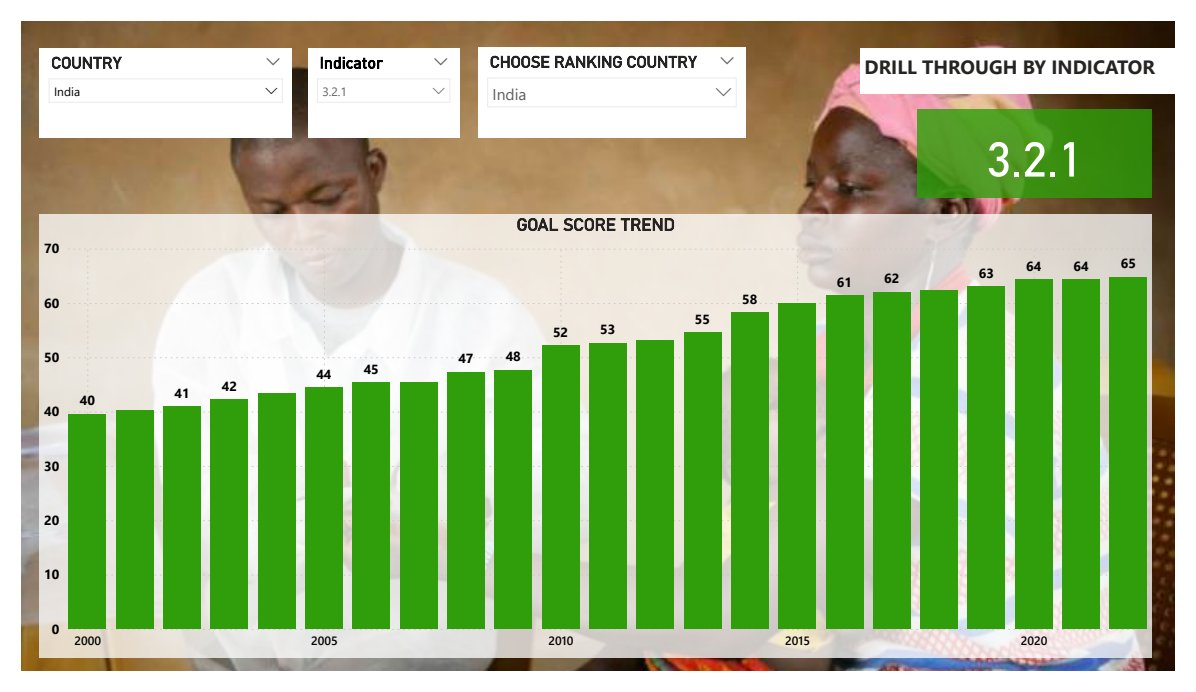

Layout of this report page (visuals, bound fields, positions):
{"tool":"powerbi","page":{"name":"SDG 3","canvas":[1280,720],"ordinal":3},"visuals":[{"type":"slicer","fields":{"Values":["SDG 3.GeoAreaName"]},"box":[19.7,30.3,280.1,98.4],"z":0},{"type":"card","fields":{"Values":["Min(SDG 3.Indicator)"]},"box":[994.8,96.9,260.4,98.4],"z":1000},{"type":"slicer","fields":{"Values":["SDG 3.Indicator"]},"box":[318,30.3,168.1,98.4],"z":2000},{"type":"slicer","fields":{"Values":["RANKING out of 100.country"]},"box":[507.3,28.8,296.8,99.9],"z":3000},{"type":"columnChart","title":"GOAL SCORE TREND ","fields":{"Category":["RANKING out of 100.year"],"Y":["Sum(RANKING out of 100.goal_3_score)"]},"box":[19.7,213.5,1235.6,492.1],"z":4000},{"type":"textbox","box":[931.2,30.3,348.3,50],"z":5000}]}

Visuals, with their boxes in screenshot pixels (x1, y1, x2, y2), scaled from the page's 1280x720 canvas onto the 1196x692 screenshot:
slicer - SDG 3.GeoAreaName: <region>18, 29, 280, 124</region>
card - Min(SDG 3.Indicator): <region>930, 93, 1173, 188</region>
slicer - SDG 3.Indicator: <region>297, 29, 454, 124</region>
slicer - RANKING out of 100.country: <region>474, 28, 751, 124</region>
"GOAL SCORE TREND " columnChart: <region>18, 205, 1173, 678</region>
textbox: <region>870, 29, 1195, 77</region>
